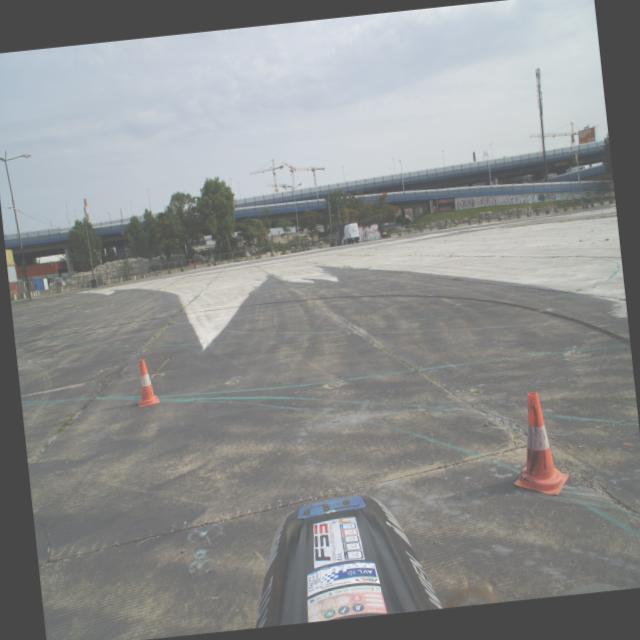orange_cone: (504, 389, 570, 499), (133, 357, 160, 407)
